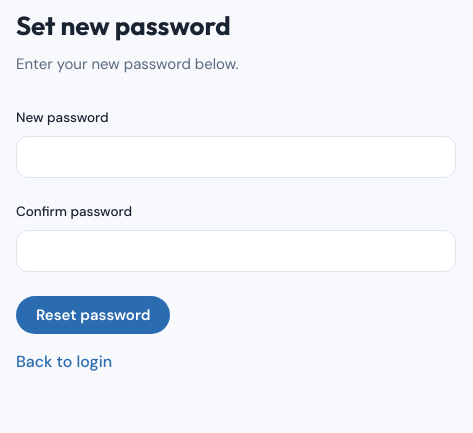
Test: ResetPassword page › submits the token and new password, then shows the confirmation screen
Type "Password123" into the password field labelled "New password". click: {"x": 236, "y": 157}
box: left=16, top=136, right=456, bottom=178
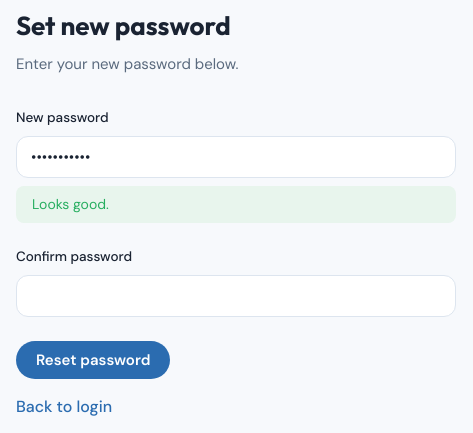
Type "Password123" into the password field labelled "Confirm password". click: {"x": 236, "y": 296}
box: left=16, top=275, right=456, bottom=317
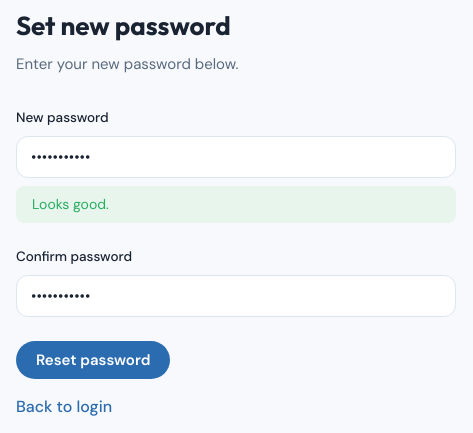
Click the button "Reset password". click: {"x": 93, "y": 360}
box: left=16, top=341, right=170, bottom=379
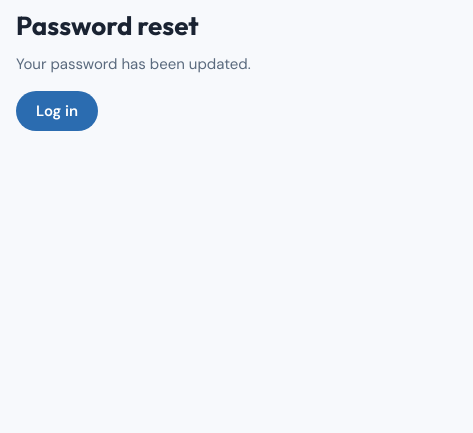
Now the text "Your password has been updated." is shown, box left=16, top=54, right=251, bottom=74
